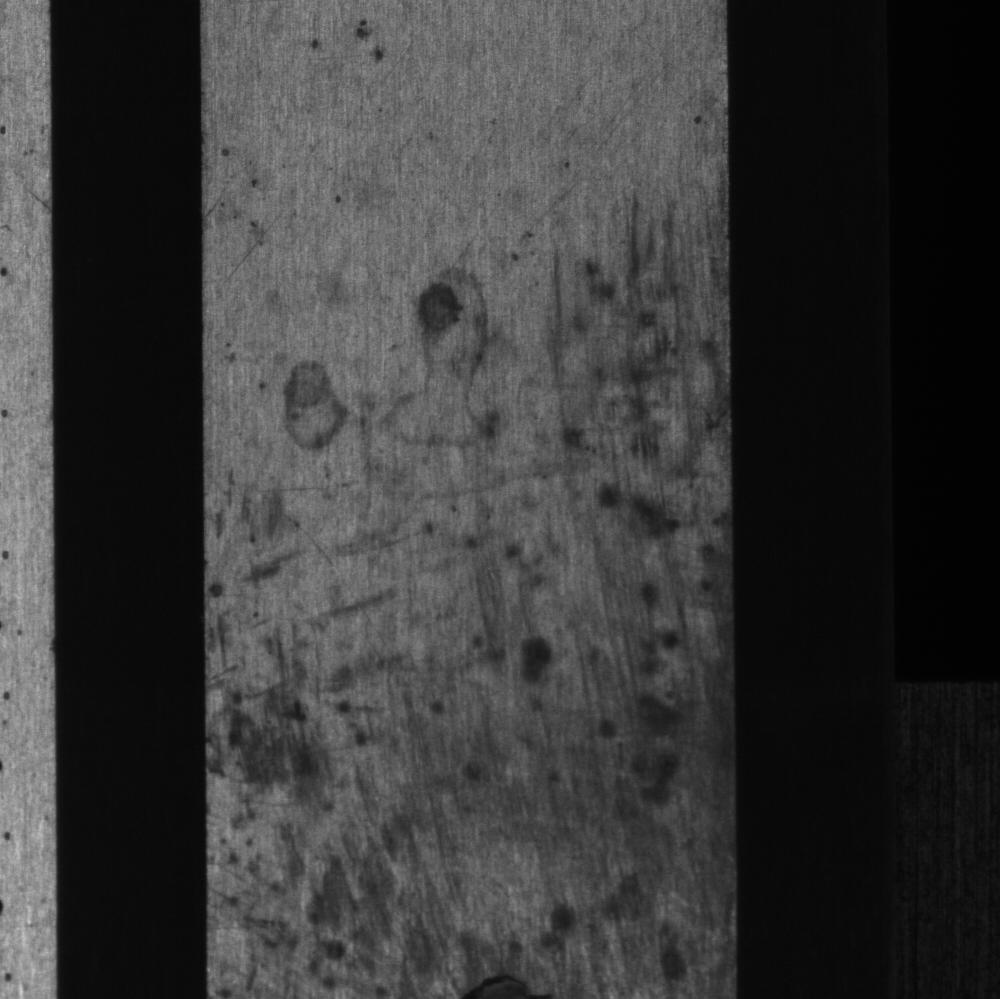Discolor: (489, 537, 731, 862), (208, 636, 479, 810), (210, 824, 464, 995), (609, 185, 727, 532), (375, 262, 520, 457), (498, 881, 735, 982), (527, 242, 602, 532), (272, 349, 357, 460)
Etching: (204, 474, 307, 601), (302, 7, 392, 69), (410, 492, 485, 560), (217, 136, 267, 194), (688, 107, 711, 133), (330, 182, 350, 211)
Scar: (589, 49, 668, 161), (209, 207, 299, 291), (454, 194, 508, 254), (17, 174, 51, 220)
